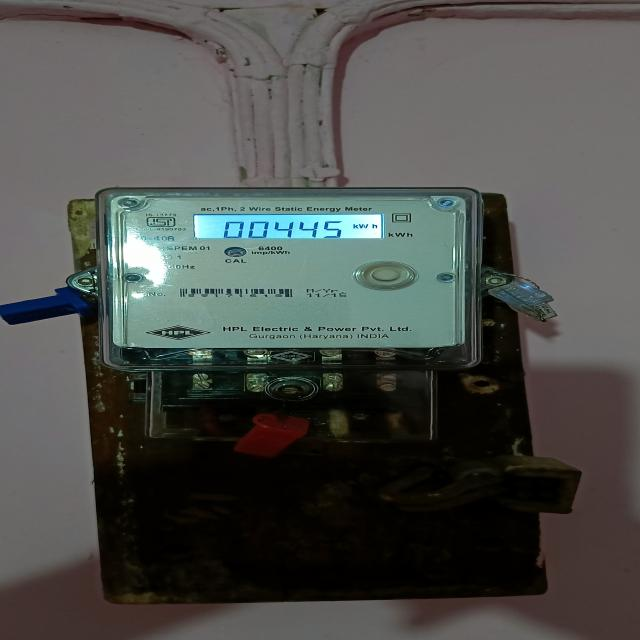display: (193, 213, 390, 243)
